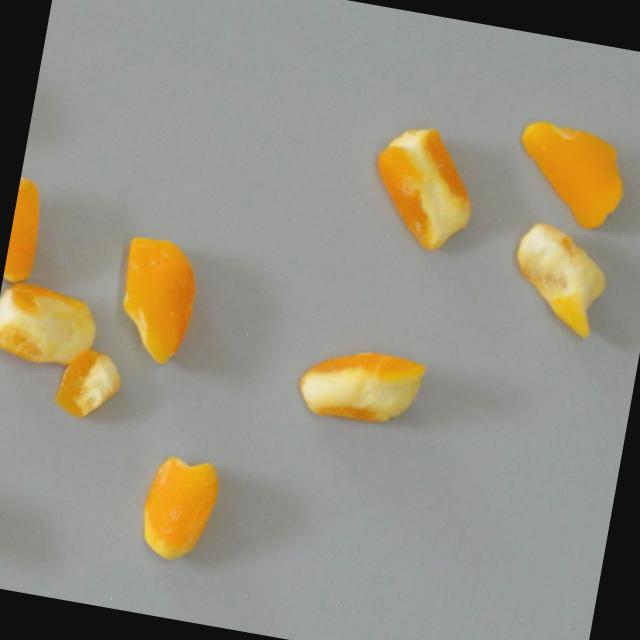agrietado: (2, 174, 48, 285)
estandar: (509, 116, 633, 233), (503, 218, 617, 341), (53, 345, 126, 423)
pelicula: (365, 119, 486, 257), (111, 232, 203, 367), (295, 341, 431, 431), (135, 450, 226, 566), (0, 277, 104, 373)
